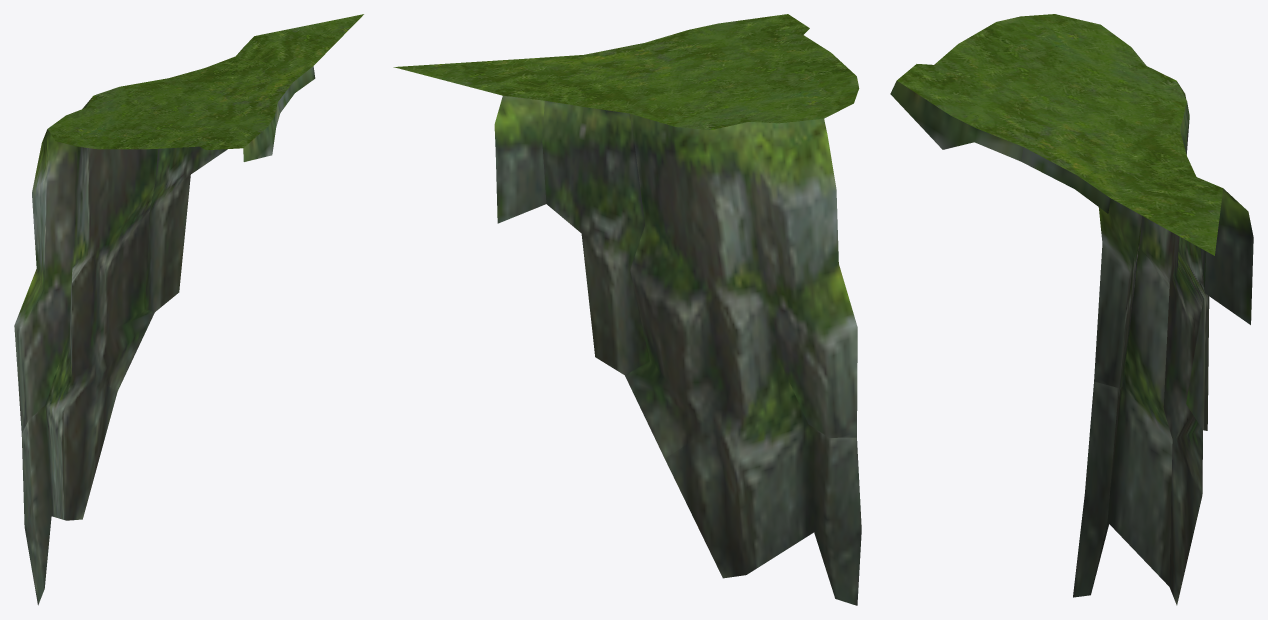
Rendered from S_Rock_Green058_H3.FBX.
The picture shows the model from 3 angles, left to right: view 1: azimuth 30°, elevation 25°; view 2: azimuth 150°, elevation 25°; view 3: azimuth 270°, elevation 25°; orthographic projection. The views are drawn at different scales.
Visible parts, largest first — view 1: S_Rock_Green058_H3_1, S_Rock_Green058_H3_2; view 2: S_Rock_Green058_H3_1, S_Rock_Green058_H3_2; view 3: S_Rock_Green058_H3_1, S_Rock_Green058_H3_2.
Part boxes in pixels (x1=…): S_Rock_Green058_H3_1: x1=14, y1=40, x2=315, y2=605; S_Rock_Green058_H3_2: x1=48, y1=14, x2=363, y2=149; S_Rock_Green058_H3_1: x1=494, y1=95, x2=861, y2=605; S_Rock_Green058_H3_2: x1=393, y1=14, x2=859, y2=129; S_Rock_Green058_H3_1: x1=890, y1=48, x2=1253, y2=605; S_Rock_Green058_H3_2: x1=897, y1=14, x2=1223, y2=255.
Size of the model in its own units: 2787 by 3209 by 1760.
